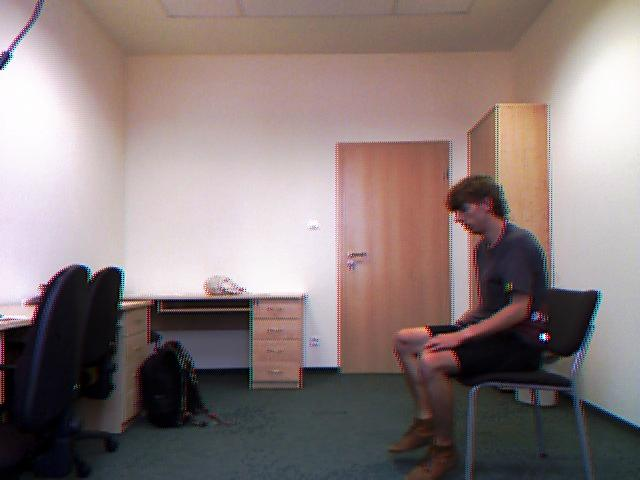sitting: (385, 168, 558, 480)
